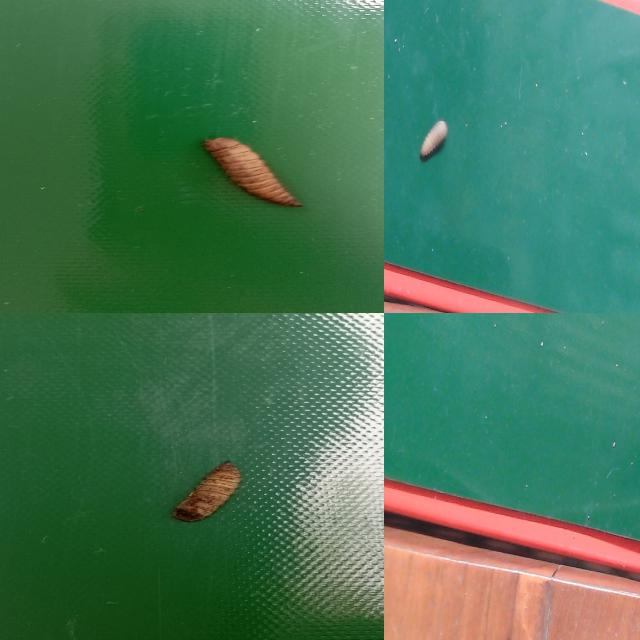Maggot: (213, 147, 297, 206), (172, 463, 243, 524), (419, 120, 450, 163)
